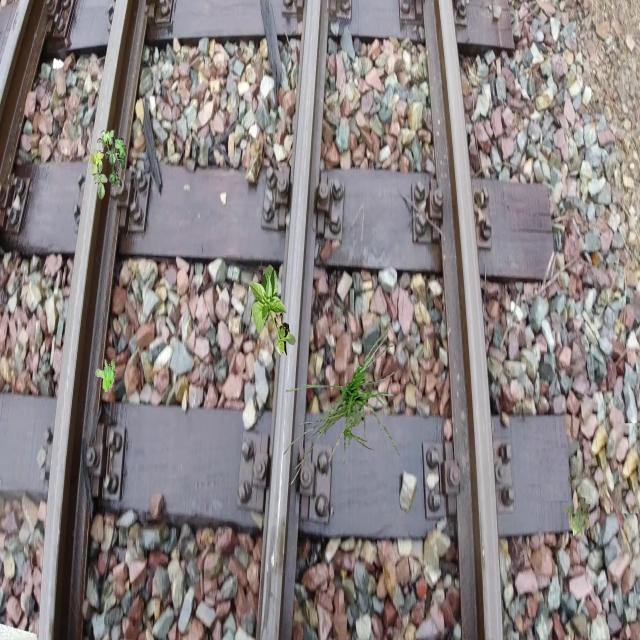Plant: (283, 322, 402, 486), (248, 264, 296, 359), (89, 126, 126, 200), (565, 497, 591, 540), (95, 359, 116, 392)
